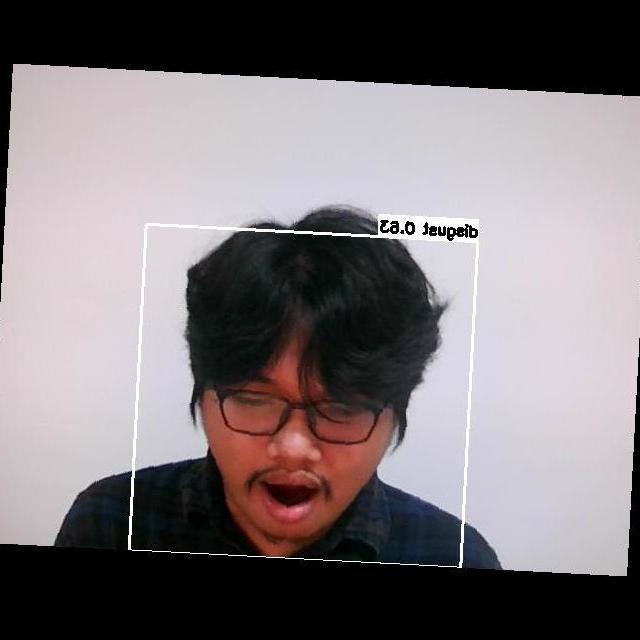Surprised: (196, 339, 399, 561)
